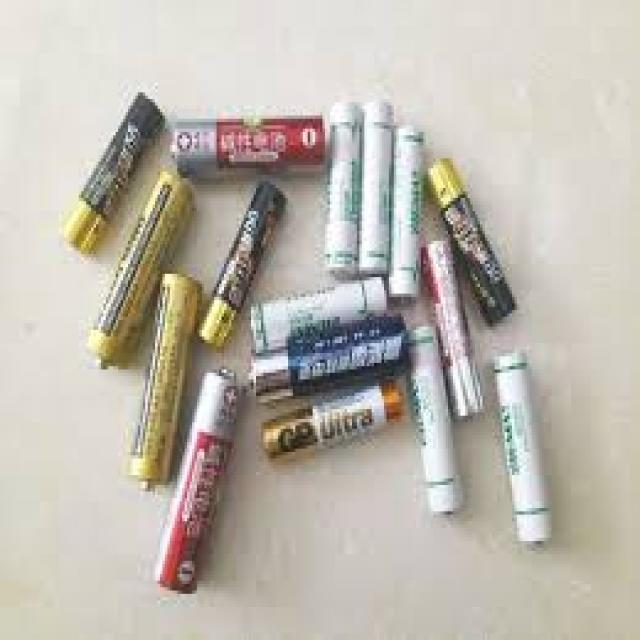non-organic waste: (89, 169, 196, 382), (151, 366, 242, 598), (62, 91, 162, 261), (132, 271, 203, 497), (428, 151, 518, 328), (238, 314, 410, 406), (199, 182, 289, 348), (400, 317, 465, 515), (492, 350, 556, 550), (253, 383, 407, 465), (424, 236, 484, 418), (168, 117, 330, 182), (242, 277, 386, 349), (326, 100, 362, 286), (391, 124, 425, 307), (363, 95, 395, 276)
